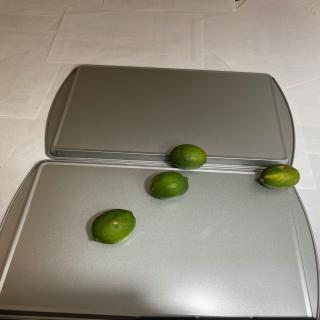Lemon: (91, 208, 136, 244), (149, 171, 189, 200), (260, 164, 300, 189), (169, 144, 207, 170)
